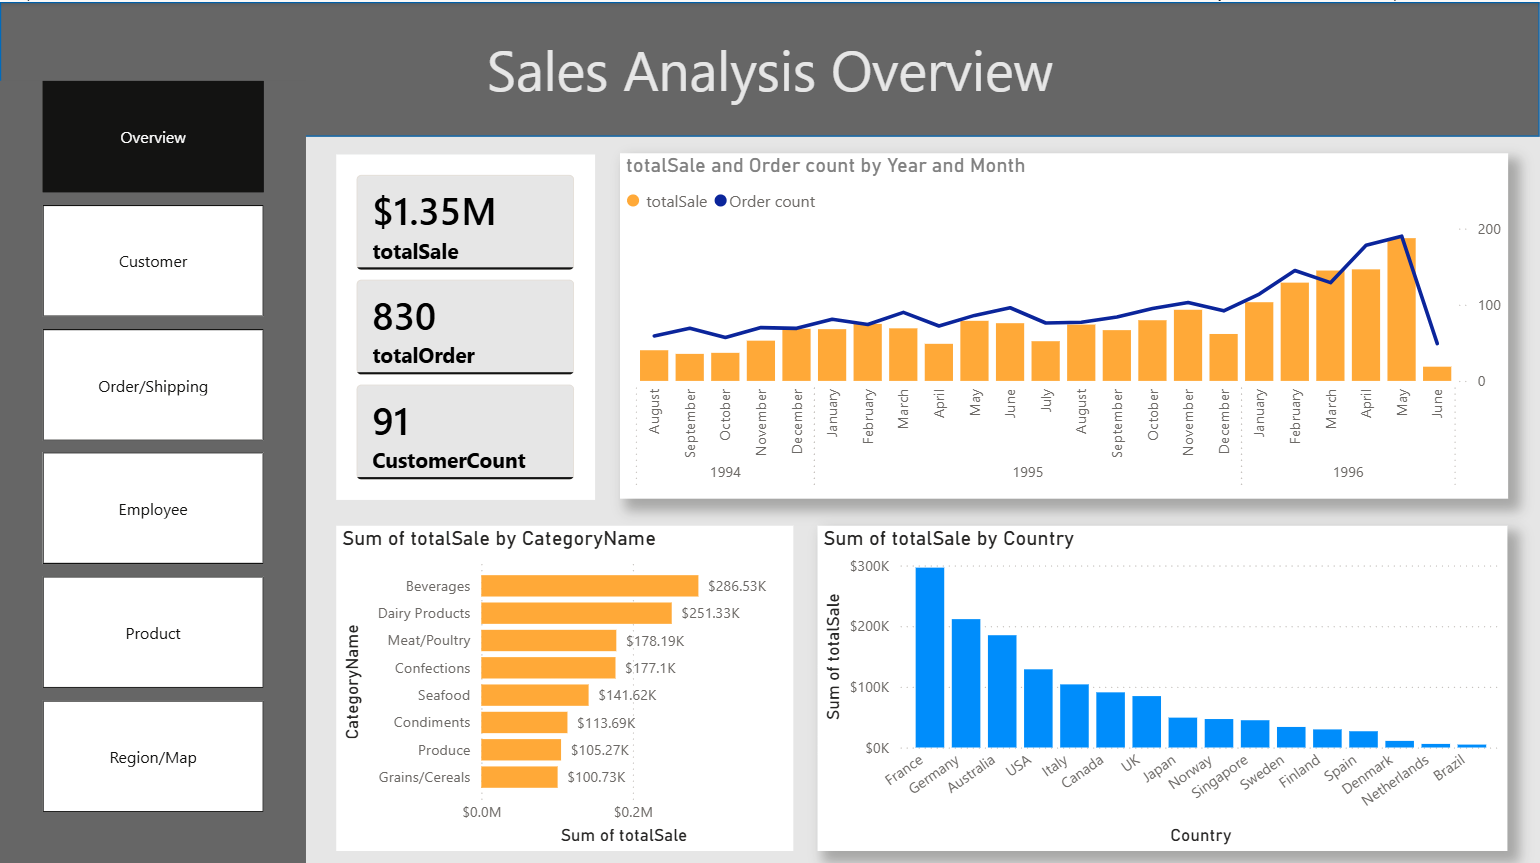

The dashboard page shown, as its layout file describes it:
{"tool":"powerbi","page":{"name":"Overview","canvas":[1280,720],"ordinal":0},"visuals":[{"type":"shape","box":[0,0,1280,111.9],"z":0},{"type":"shape","box":[0,65.5,254.6,654.7],"z":1},{"type":"pageNavigator","box":[35.3,65.5,184.9,610.5],"z":2},{"type":"lineClusteredColumnComboChart","fields":{"Category":["orders.OrderDate.Variation.Date Hierarchy.Year","orders.OrderDate.Variation.Date Hierarchy.Month"],"Y":["Sum(order details.totalSale)"],"Y2":["CountNonNull(order details.OrderID)"]},"box":[515.4,125.7,738.4,287.2],"z":3},{"type":"clusteredBarChart","fields":{"Category":["categories.CategoryName"],"Y":["Sum(order details.totalSale)"]},"box":[279.9,435.1,380.2,270.4],"z":4},{"type":"columnChart","fields":{"Category":["suppliers.Country"],"Y":["Sum(order details.totalSale)"]},"box":[680.1,435.1,573.5,270.4],"z":5},{"type":"cardVisual","fields":{"Data":["Sum(order details.totalSale)","CountNonNull(orders.OrderID)","Count(customers.CustomerID)"]},"box":[279.9,126.7,215.1,287.2],"z":6}]}

Visuals, with their boxes in screenshot pixels (x1, y1, x2, y2), scaled from the page's 1280x720 canvas onto the 1540x863 screenshot:
shape: x1=0, y1=0, x2=1539, y2=134
shape: x1=0, y1=79, x2=306, y2=862
pageNavigator: x1=42, y1=79, x2=265, y2=810
lineClusteredColumnComboChart - orders.OrderDate.Variation.Date Hierarchy.Year x orders.OrderDate.Variation.Date Hierarchy.Month: x1=620, y1=151, x2=1508, y2=495
clusteredBarChart - categories.CategoryName x Sum(order details.totalSale): x1=337, y1=522, x2=794, y2=846
columnChart - suppliers.Country x Sum(order details.totalSale): x1=818, y1=522, x2=1508, y2=846
cardVisual - Sum(order details.totalSale) x CountNonNull(orders.OrderID): x1=337, y1=152, x2=596, y2=496
